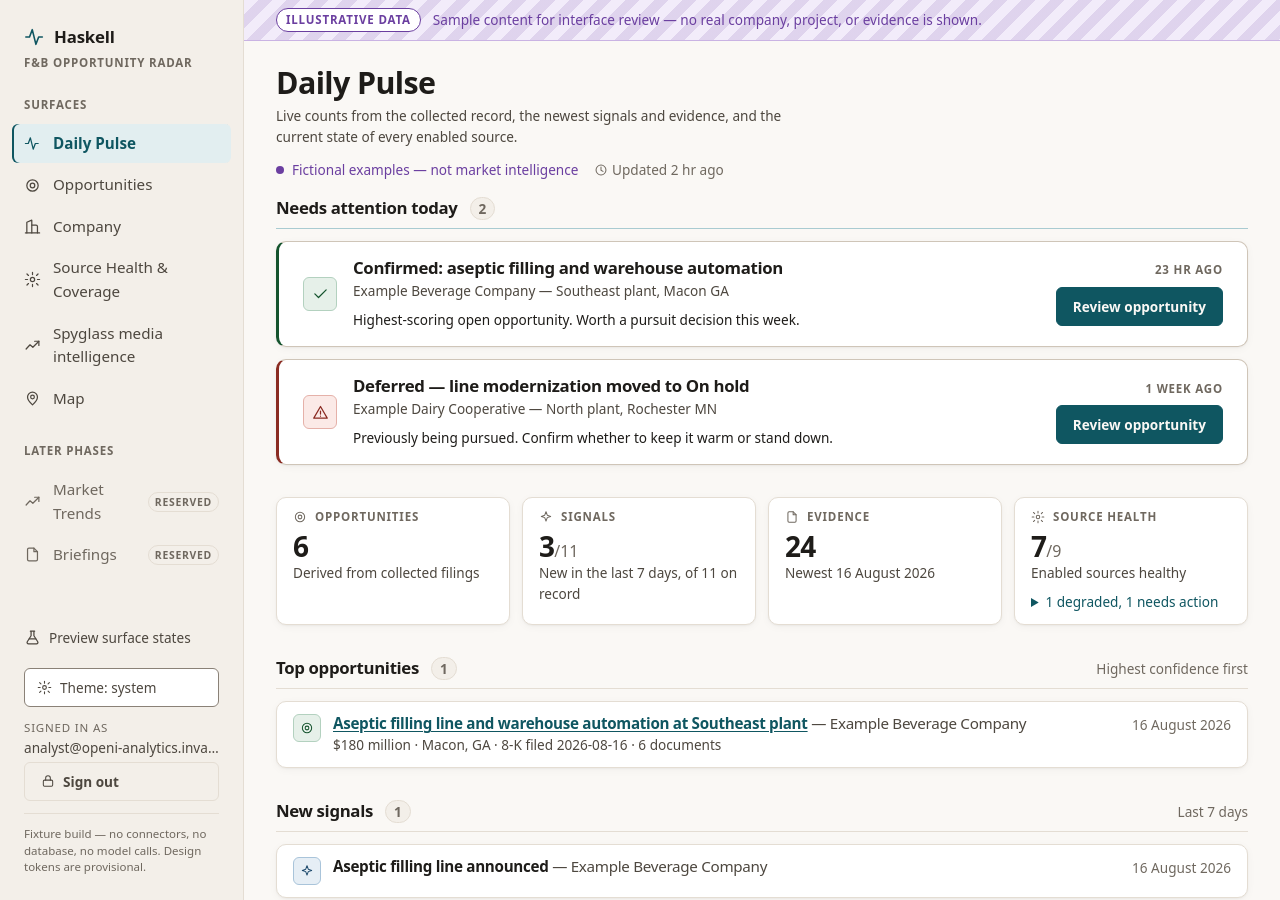
Scenario: signing out › offers a visible control in the wide shell and removes the application at once
expect the navigation bar named "Primary" is shown: met, box [0,0,244,899]
expect the text "analyst@openi-analytics.invalid" is shown: met, box [24,737,219,758]
Click the button "Sign out". click: (122, 781)
box: [24,762,219,801]
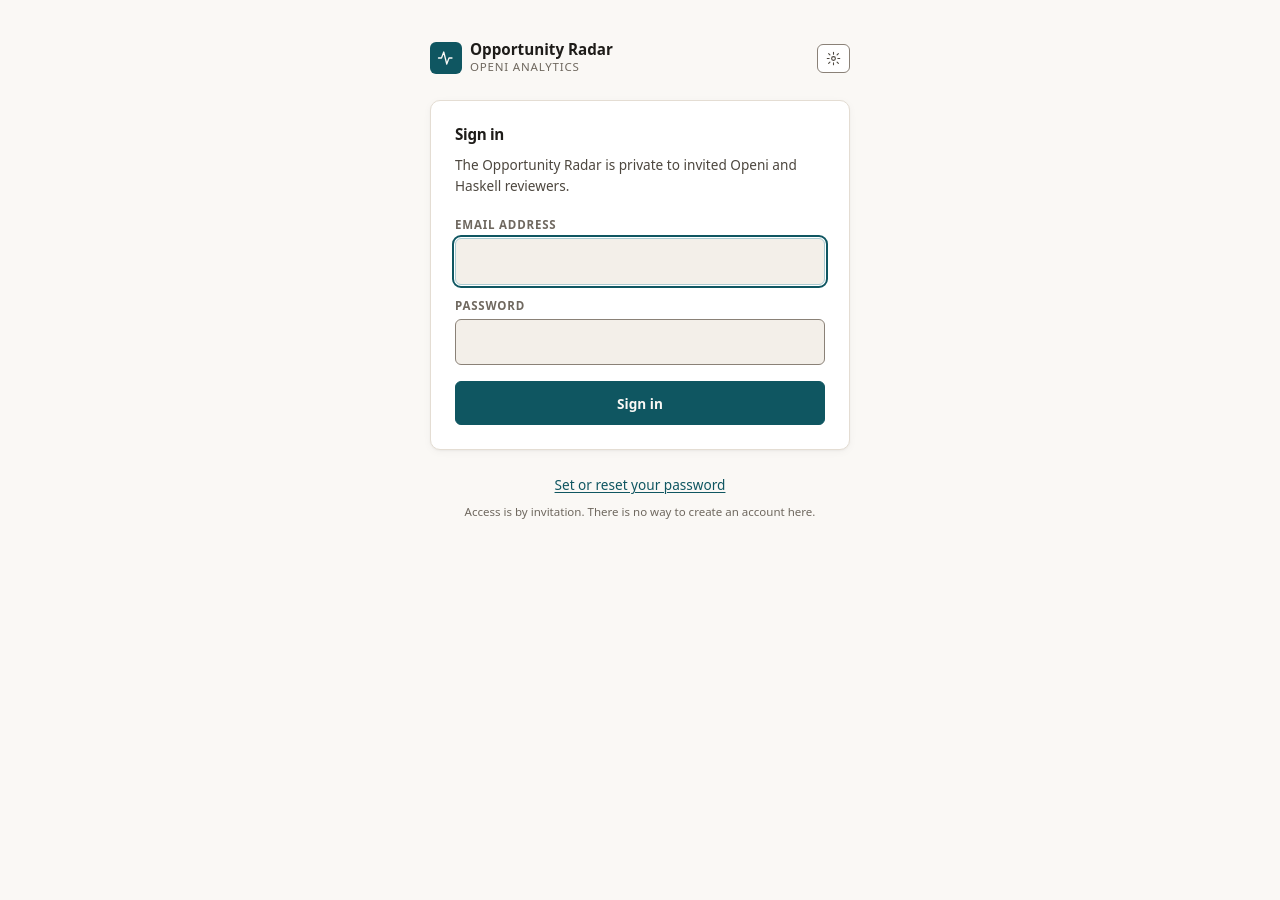
expect the heading "Sign in" is shown: met, box [455,124,504,144]
expect the navigation bar "Primary" is gone: met
expect the link "Daily Pulse" is gone: met
